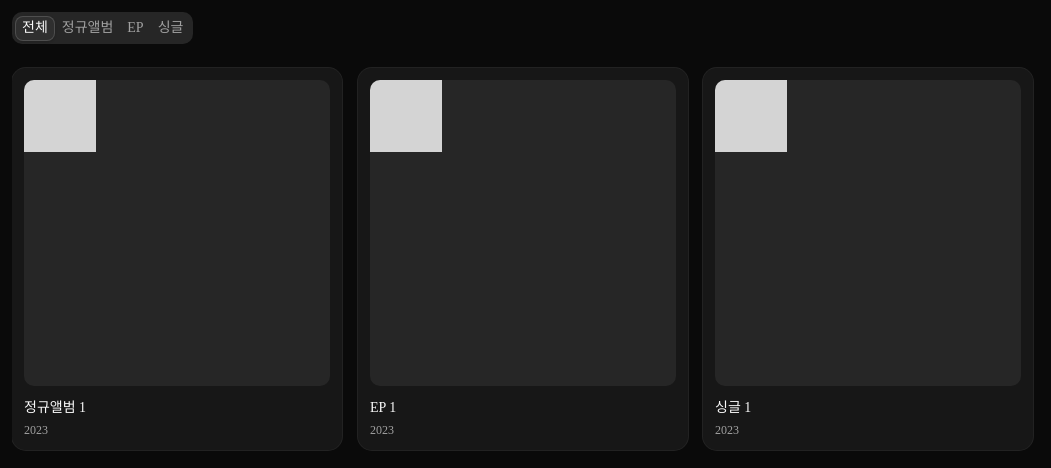
Test case: AlbumGrid › EP 탭 선택 시 album_type=album이면서 트랙 수가 적은 앨범만 보인다
Click the tab "EP" at (135, 28), box left=120, top=16, right=151, bottom=40
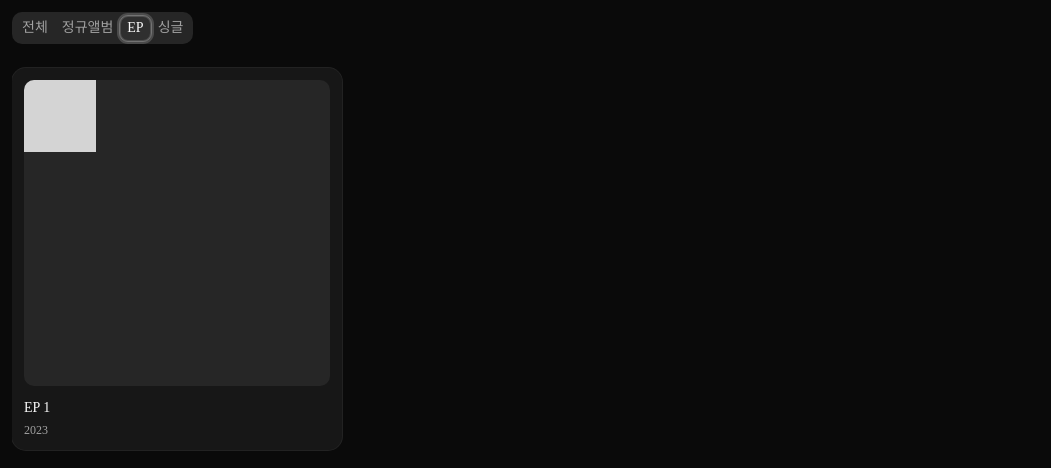
Check: the text "EP 1" is shown, box left=24, top=400, right=50, bottom=414
Check: the link "정규앨범 1" is gone
Check: the link "싱글 1" is gone
